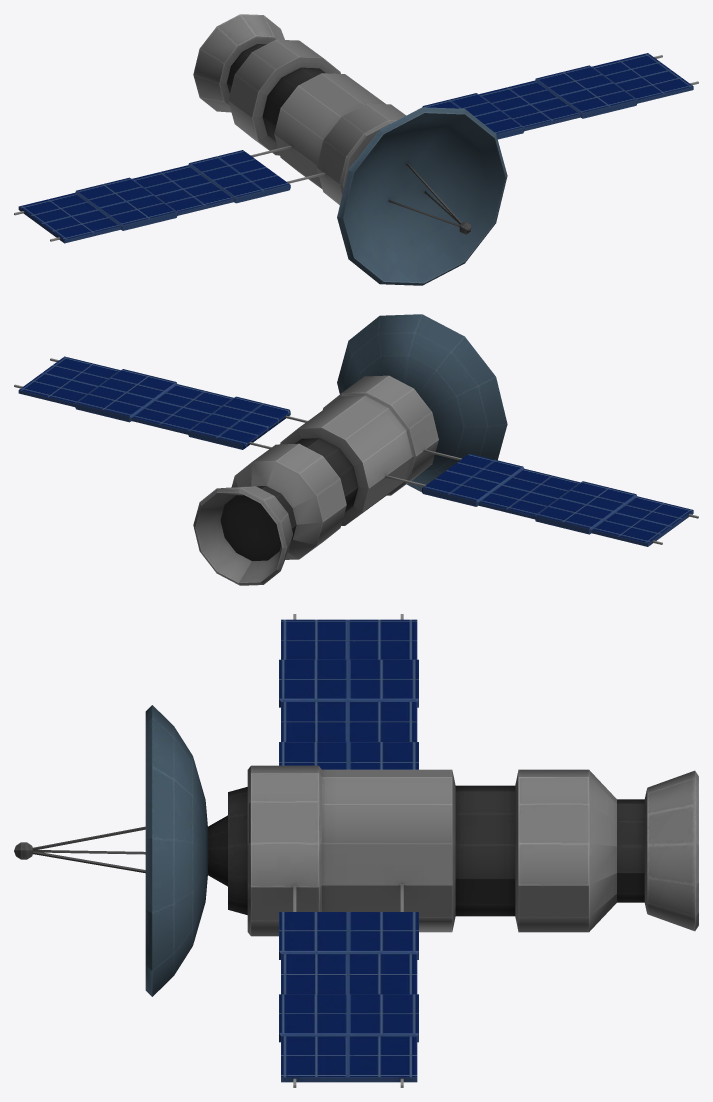
File: satellite.glb
3 renders of one model, top to bottom at view 1: azimuth 30°, elevation 25°; view 2: azimuth 150°, elevation 25°; view 3: azimuth 270°, elevation 25°, orthographic. The views are drawn at different scales.
Parts seen in each view (by area): view 1: Satellite_mesh; view 2: Satellite_mesh; view 3: Satellite_mesh.
Boxes of the visible parts, x1,y1,x2,y2 form: Satellite_mesh: [14, 14, 698, 285]; Satellite_mesh: [14, 314, 698, 585]; Satellite_mesh: [14, 614, 698, 1087].
Bounding box in the file's own units: 41.03 × 10.8 × 25.21.
Materials: 1 (1 with a texture image).
